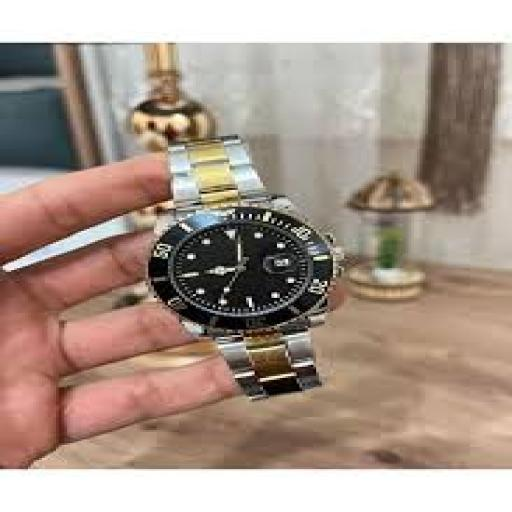KolSaati: (103, 102, 381, 434)
